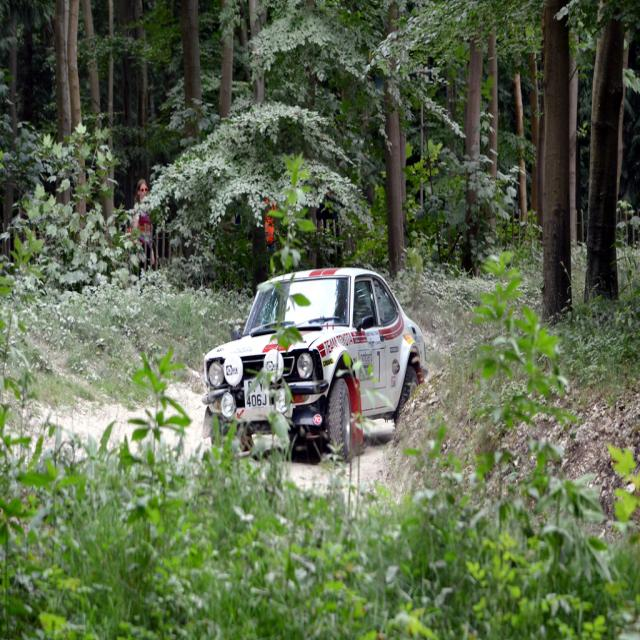other: (201, 255, 430, 478)
